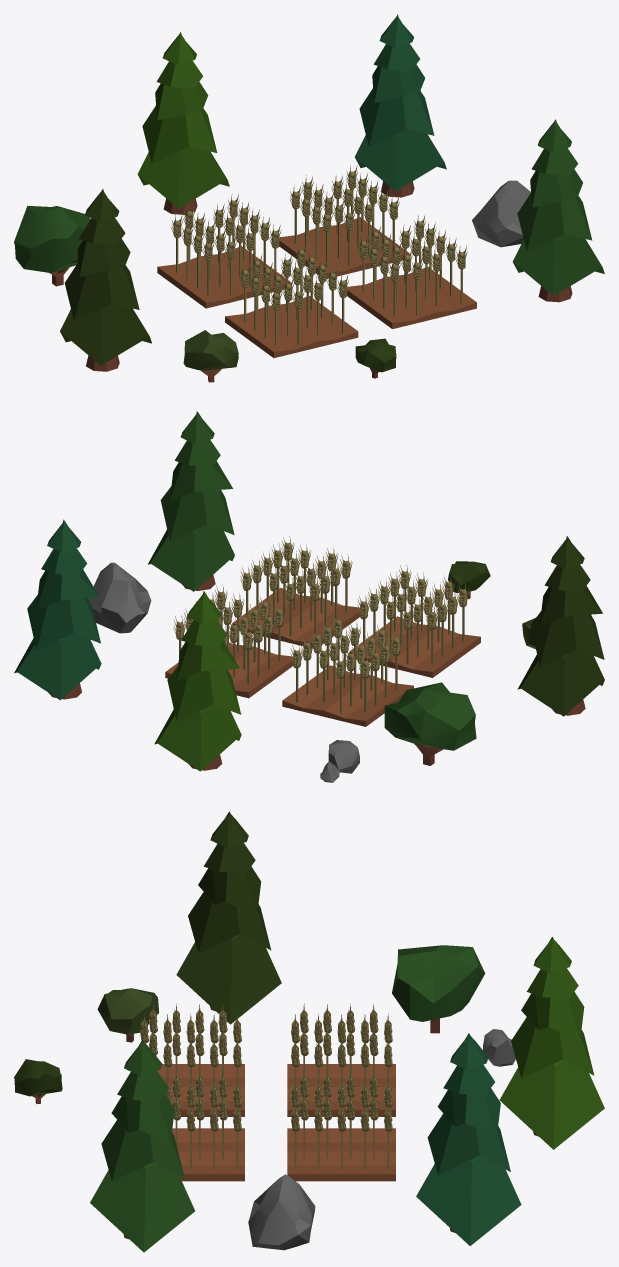
The model's file is FarmLVL1.fbx.
The picture shows the model from 3 angles, top to bottom: view 1: azimuth 30°, elevation 25°; view 2: azimuth 150°, elevation 25°; view 3: azimuth 270°, elevation 25°; orthographic projection. The views are drawn at different scales.
Parts seen in each view (by area): view 1: пшеница.001, ель.005, ель.007, ель.006, ель.008, куст.005, Cube.006, куст.006, куст.007; view 2: пшеница.001, ель.008, ель.006, ель.005, ель.007, куст.005, Cube.006, куст.007, Cube.003; view 3: пшеница.001, ель.005, ель.006, ель.008, ель.007, куст.005, Cube.006, куст.006, куст.007, Cube.003.
Boxes of the visible parts, <box> form: пшеница.001: <box>157,164,476,357</box>; ель.005: <box>512,119,604,302</box>; ель.007: <box>60,189,151,371</box>; ель.006: <box>355,14,446,197</box>; ель.008: <box>137,32,229,214</box>; куст.005: <box>14,205,90,286</box>; Cube.006: <box>472,180,530,247</box>; куст.006: <box>183,330,238,382</box>; куст.007: <box>355,338,396,378</box>; пшеница.001: <box>165,536,480,726</box>; ель.008: <box>154,591,241,771</box>; ель.006: <box>14,519,101,700</box>; ель.005: <box>148,411,234,591</box>; ель.007: <box>517,536,604,716</box>; куст.005: <box>384,682,476,765</box>; Cube.006: <box>88,562,151,633</box>; куст.007: <box>448,561,490,599</box>; Cube.003: <box>328,740,359,773</box>; пшеница.001: <box>140,1003,395,1181</box>; ель.005: <box>90,1039,194,1252</box>; ель.006: <box>416,1033,521,1245</box>; ель.008: <box>499,937,604,1149</box>; ель.007: <box>176,811,281,1024</box>; куст.005: <box>392,945,485,1033</box>; Cube.006: <box>248,1174,315,1250</box>; куст.006: <box>97,988,159,1042</box>; куст.007: <box>14,1059,62,1103</box>; Cube.003: <box>483,1029,515,1066</box>.
Bounding box in the file's own units: 807 × 274 × 736.
